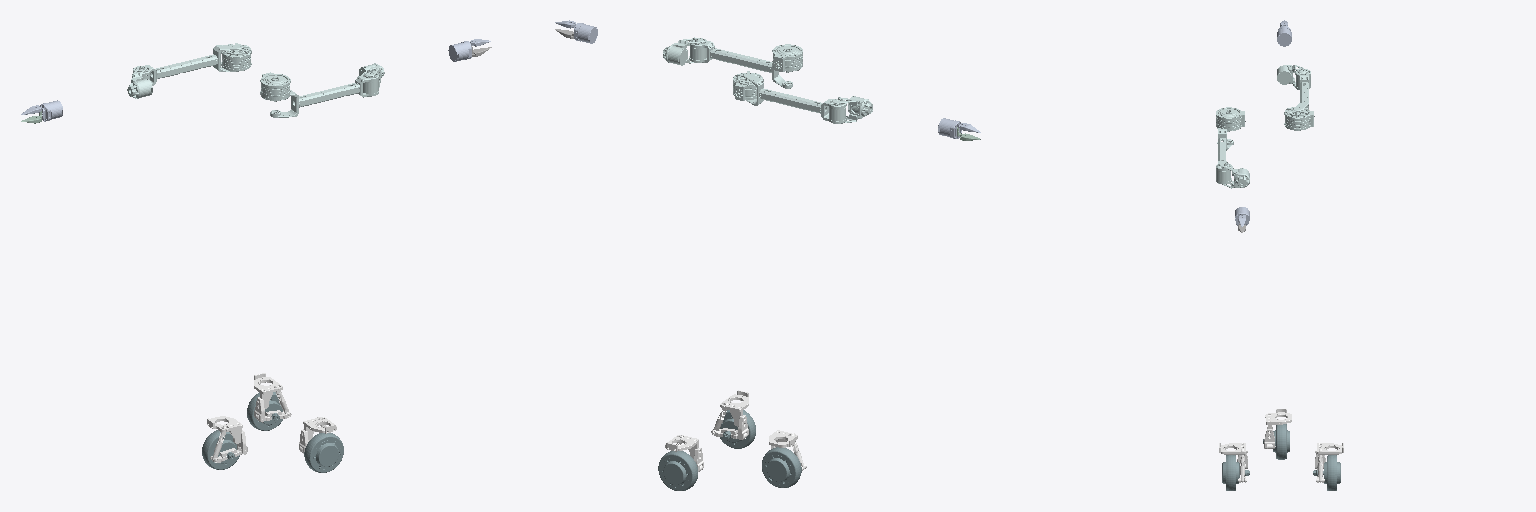
--- Render facts (derived) ---
Views: 3 orthographic renders of the robot side by side, from view 1: azimuth 30°, elevation 25°; view 2: azimuth 150°, elevation 25°; view 3: azimuth 270°, elevation 25°.
Robot: r1urdfv20 — 24 links, 23 joints (15 revolute, 3 continuous, 4 prismatic, 1 fixed); root link base_link; default pose: every joint at zero.
Links seen in each view (by area): view 1: right_arm_2_Link, front_right_wheel_Link, left_arm_2_Link, front_left_turn_Link, rear_turn_Link, rear_wheel_Link, right_arm_1_Link, front_left_wheel_Link, left_arm_1_Link, front_right_turn_Link, left_arm_3_Link; view 2: left_arm_2_Link, right_arm_2_Link, rear_wheel_Link, front_left_wheel_Link, front_right_turn_Link, right_arm_1_Link, front_right_wheel_Link, front_left_turn_Link, left_arm_3_Link, right_arm_3_Link, left_arm_1_Link, rear_turn_Link; view 3: right_arm_2_Link, right_arm_1_Link, left_arm_1_Link, front_right_wheel_Link, front_left_wheel_Link, rear_turn_Link.
Boxes of the visible links, x1=… form: right_arm_2_Link: x1=270, y1=72, x2=378, y2=117; front_right_wheel_Link: x1=304, y1=433, x2=343, y2=472; left_arm_2_Link: x1=133, y1=45, x2=241, y2=85; front_left_turn_Link: x1=254, y1=373, x2=291, y2=422; rear_turn_Link: x1=207, y1=416, x2=247, y2=462; rear_wheel_Link: x1=202, y1=430, x2=239, y2=469; right_arm_1_Link: x1=260, y1=72, x2=290, y2=101; front_left_wheel_Link: x1=247, y1=392, x2=282, y2=430; left_arm_1_Link: x1=221, y1=43, x2=251, y2=71; front_right_turn_Link: x1=299, y1=417, x2=336, y2=453; left_arm_3_Link: x1=127, y1=66, x2=152, y2=98; left_arm_2_Link: x1=743, y1=73, x2=846, y2=123; right_arm_2_Link: x1=689, y1=38, x2=792, y2=88; rear_wheel_Link: x1=762, y1=447, x2=801, y2=487; front_left_wheel_Link: x1=658, y1=451, x2=697, y2=490; front_right_turn_Link: x1=711, y1=390, x2=748, y2=439; right_arm_1_Link: x1=772, y1=44, x2=802, y2=72; front_right_wheel_Link: x1=720, y1=410, x2=755, y2=448; front_left_turn_Link: x1=665, y1=435, x2=703, y2=471; left_arm_3_Link: x1=832, y1=96, x2=872, y2=123; right_arm_3_Link: x1=663, y1=37, x2=703, y2=65; left_arm_1_Link: x1=733, y1=71, x2=763, y2=100; rear_turn_Link: x1=769, y1=430, x2=806, y2=470; right_arm_2_Link: x1=1216, y1=128, x2=1233, y2=183; right_arm_1_Link: x1=1216, y1=107, x2=1245, y2=131; left_arm_1_Link: x1=1284, y1=107, x2=1314, y2=130; front_right_wheel_Link: x1=1222, y1=455, x2=1249, y2=490; front_left_wheel_Link: x1=1313, y1=455, x2=1340, y2=490; rear_turn_Link: x1=1264, y1=409, x2=1291, y2=448.
Bounding box of the posed robot: 1.7 × 0.4835 × 1.49 m (x, y, z).
Meshes: 24 distinct files referenced, 18 mesh visuals loaded (18 binary STL); not drawn: 6 (reference not matched to a file when rendering).

The robot description file, URDF, robot "r1urdfv20":
<?xml version="1.0" encoding="utf-8"?>
<!-- This URDF was automatically created by SolidWorks to URDF Exporter! Originally created by Stephen Brawner ([email redacted]) 
     Commit Version: 1.6.0-4-g7f85cfe  Build Version: 1.6.7995.38578
     For more information, please see http://wiki.ros.org/sw_urdf_exporter -->
<robot
  name="r1urdfv20">
  <link
    name="base_link">
    <inertial>
      <origin
        xyz="-0.026382 -0.0012728 0.5966"
        rpy="0 0 0" />
      <mass
        value="15.491" />
      <inertia
        ixx="0.13933"
        ixy="-3.1833E-06"
        ixz="-7.9787E-05"
        iyy="0.090681"
        iyz="-1.7144E-05"
        izz="0.074444" />
    </inertial>
    <visual>
      <origin
        xyz="0 0 0"
        rpy="0 0 0" />
      <geometry>
        <mesh
          filename="package://r1urdfv20/meshes/base_link.STL" />
      </geometry>
      <material
        name="">
        <color
          rgba="0.6 0.6 0.6 1" />
      </material>
    </visual>
    <collision>
      <origin
        xyz="0 0 0"
        rpy="0 0 0" />
      <geometry>
        <mesh
          filename="package://r1urdfv20/meshes/base_link.STL" />
      </geometry>
    </collision>
  </link>
  <link
    name="right_arm_1_Link">
    <inertial>
      <origin
        xyz="0.000482947498702258 0.0665129799867958 -4.39097614289632E-05"
        rpy="0 0 0" />
      <mass
        value="0.398803866995265" />
      <inertia
        ixx="0.000471963938986112"
        ixy="2.06893994686651E-07"
        ixz="-1.14905994861973E-08"
        iyy="0.000292322022062978"
        iyz="3.84681040793564E-09"
        izz="0.00029753175071843" />
    </inertial>
    <visual>
      <origin
        xyz="0 0 0"
        rpy="0 0 0" />
      <geometry>
        <mesh
          filename="package://r1urdfv20/meshes/right_arm_1_Link.STL" />
      </geometry>
      <material
        name="">
        <color
          rgba="0.862745098039216 0.933333333333333 0.929411764705882 1" />
      </material>
    </visual>
    <collision>
      <origin
        xyz="0 0 0"
        rpy="0 0 0" />
      <geometry>
        <mesh
          filename="package://r1urdfv20/meshes/right_arm_1_Link.STL" />
      </geometry>
    </collision>
  </link>
  <joint
    name="right_arm_1"
    type="revolute">
    <origin
      xyz="-0.055 -0.1293 1.375"
      rpy="3.1416 1.5708 0" />
    <parent
      link="base_link" />
    <child
      link="right_arm_1_Link" />
    <axis
      xyz="0 1 0" />
    <limit
      lower="-2.9671"
      upper="2.9671"
      effort="40"
      velocity="20.944" />
  </joint>
  <link
    name="right_arm_2_Link">
    <inertial>
      <origin
        xyz="0.242000100178419 0.0329432147671944 -0.0210911855769896"
        rpy="0 0 0" />
      <mass
        value="0.304298191433429" />
      <inertia
        ixx="8.21099672038204E-05"
        ixy="-8.01356169800638E-07"
        ixz="7.54332283804966E-06"
        iyy="0.000460903257636709"
        iyz="3.46449438210603E-07"
        izz="0.000436774574409272" />
    </inertial>
    <visual>
      <origin
        xyz="0 0 0"
        rpy="0 0 0" />
      <geometry>
        <mesh
          filename="package://r1urdfv20/meshes/right_arm_2_Link.STL" />
      </geometry>
      <material
        name="">
        <color
          rgba="0.862745098039216 0.933333333333333 0.929411764705882 1" />
      </material>
    </visual>
    <collision>
      <origin
        xyz="0 0 0"
        rpy="0 0 0" />
      <geometry>
        <mesh
          filename="package://r1urdfv20/meshes/right_arm_2_Link.STL" />
      </geometry>
    </collision>
  </link>
  <joint
    name="right_arm_2"
    type="revolute">
    <origin
      xyz="0.0316 0.0682 0"
      rpy="1.5708 1.5708 0" />
    <parent
      link="right_arm_1_Link" />
    <child
      link="right_arm_2_Link" />
    <axis
      xyz="0 -1 0" />
    <limit
      lower="0"
      upper="3.1416"
      effort="40"
      velocity="20.944" />
  </joint>
  <link
    name="right_arm_3_Link">
    <inertial>
      <origin
        xyz="0.0562887318450117 0.0287031276620311 0.0460109885164526"
        rpy="0 0 0" />
      <mass
        value="0.17673381793659" />
      <inertia
        ixx="7.11121862208899E-05"
        ixy="7.75554307231406E-08"
        ixz="-1.3313861413664E-05"
        iyy="7.31597322912867E-05"
        iyz="1.56136589502447E-07"
        izz="7.82758650078634E-05" />
    </inertial>
    <visual>
      <origin
        xyz="0 0 0"
        rpy="0 0 0" />
      <geometry>
        <mesh
          filename="package://r1urdfv20/meshes/right_arm_3_Link.STL" />
      </geometry>
      <material
        name="">
        <color
          rgba="0.862745098039216 0.933333333333333 0.929411764705882 1" />
      </material>
    </visual>
    <collision>
      <origin
        xyz="0 0 0"
        rpy="0 0 0" />
      <geometry>
        <mesh
          filename="package://r1urdfv20/meshes/right_arm_3_Link.STL" />
      </geometry>
    </collision>
  </link>
  <joint
    name="right_arm_3"
    type="revolute">
    <origin
      xyz="0.3493 0.0602 -0.02"
      rpy="0 -1.4992 3.1416" />
    <parent
      link="right_arm_2_Link" />
    <child
      link="right_arm_3_Link" />
    <axis
      xyz="0 1 0" />
    <limit
      lower="-3.2289"
      upper="0"
      effort="27"
      velocity="7.5398" />
  </joint>
  <link
    name="right_arm_4_Link">
    <inertial>
      <origin
        xyz="-0.000115885764968349 -0.000953414199622499 0.162502253261696"
        rpy="0 0 0" />
      <mass
        value="0.173902313999747" />
      <inertia
        ixx="9.66641920947544E-05"
        ixy="-1.14315876051539E-08"
        ixz="2.2086976682201E-08"
        iyy="0.000107424784872974"
        iyz="8.18988678838899E-08"
        izz="4.3081633581935E-05" />
    </inertial>
    <visual>
      <origin
        xyz="0 0 0"
        rpy="0 0 0" />
      <geometry>
        <mesh
          filename="package://r1urdfv20/meshes/right_arm_4_Link.STL" />
      </geometry>
      <material
        name="">
        <color
          rgba="0.807843137254902 0.843137254901961 0.905882352941176 1" />
      </material>
    </visual>
    <collision>
      <origin
        xyz="0 0 0"
        rpy="0 0 0" />
      <geometry>
        <mesh
          filename="package://r1urdfv20/meshes/right_arm_4_Link.STL" />
      </geometry>
    </collision>
  </link>
  <joint
    name="right_arm_4"
    type="revolute">
    <origin
      xyz="0.064765 0.0286 0.075477"
      rpy="-0.071618 0 1.5708" />
    <parent
      link="right_arm_3_Link" />
    <child
      link="right_arm_4_Link" />
    <axis
      xyz="0 0 -1" />
    <limit
      lower="-2.9671"
      upper="2.9671"
      effort="7"
      velocity="25.133" />
  </joint>
  <link
    name="right_arm_5_Link">
    <inertial>
      <origin
        xyz="0.0531831929626253 7.0332425980979E-05 -0.0158335004823851"
        rpy="0 0 0" />
      <mass
        value="0.125757652730193" />
      <inertia
        ixx="4.74089143783051E-05"
        ixy="-1.14185805509986E-08"
        ixz="-1.35496915402268E-07"
        iyy="3.8455449922191E-05"
        iyz="2.20905766824506E-08"
        izz="4.01871788113155E-05" />
    </inertial>
    <visual>
      <origin
        xyz="0 0 0"
        rpy="0 0 0" />
      <geometry>
        <mesh
          filename="package://r1urdfv20/meshes/right_arm_5_Link.STL" />
      </geometry>
      <material
        name="">
        <color
          rgba="0.807843137254902 0.843137254901961 0.905882352941176 1" />
      </material>
    </visual>
    <collision>
      <origin
        xyz="0 0 0"
        rpy="0 0 0" />
      <geometry>
        <mesh
          filename="package://r1urdfv20/meshes/right_arm_5_Link.STL" />
      </geometry>
    </collision>
  </link>
  <joint
    name="right_arm_5"
    type="revolute">
    <origin
      xyz="0 -0.019 0.203"
      rpy="1.5708 -1.5708 0" />
    <parent
      link="right_arm_4_Link" />
    <child
      link="right_arm_5_Link" />
    <axis
      xyz="0 0 -1" />
    <limit
      lower="-1.5708"
      upper="1.5708"
      effort="7"
      velocity="25.133" />
  </joint>
  <link
    name="right_arm_6_Link">
    <inertial>
      <origin
        xyz="9.00598932584984E-05 -0.0158749347061359 1.57785811366329E-05"
        rpy="0 0 0" />
      <mass
        value="0.122512592931009" />
      <inertia
        ixx="3.7405042389197E-05"
        ixy="-1.14177312628966E-08"
        ixz="-2.20718306069342E-08"
        iyy="5.19904063396718E-05"
        iyz="-2.26275509948969E-12"
        izz="3.96317905767279E-05" />
    </inertial>
    <visual>
      <origin
        xyz="0 0 0"
        rpy="0 0 0" />
      <geometry>
        <mesh
          filename="package://r1urdfv20/meshes/right_arm_6_Link.STL" />
      </geometry>
      <material
        name="">
        <color
          rgba="0.807843137254902 0.843137254901961 0.905882352941176 1" />
      </material>
    </visual>
    <collision>
      <origin
        xyz="0 0 0"
        rpy="0 0 0" />
      <geometry>
        <mesh
          filename="package://r1urdfv20/meshes/right_arm_6_Link.STL" />
      </geometry>
    </collision>
  </link>
  <joint
    name="right_arm_6"
    type="revolute">
    <origin
      xyz="0.127 0 -0.019"
      rpy="0 0 -1.5708" />
    <parent
      link="right_arm_5_Link" />
    <child
      link="right_arm_6_Link" />
    <axis
      xyz="0 -1 0" />
    <limit
      lower="-3.1416"
      upper="3.1416"
      effort="7"
      velocity="25.133" />
  </joint>
  <link
    name="right_gripper_1_Link">
    <inertial>
      <origin
        xyz="0.0150997682776914 0.0466628666880268 0.00130021742187353"
        rpy="0 0 0" />
      <mass
        value="0.020839650594778" />
      <inertia
        ixx="5.35925669042557E-06"
        ixy="3.2105081397067E-07"
        ixz="8.41324549886875E-08"
        iyy="1.64858970587413E-06"
        iyz="8.43889751948525E-08"
        izz="4.71009872198047E-06" />
    </inertial>
    <visual>
      <origin
        xyz="0 0 0"
        rpy="0 0 0" />
      <geometry>
        <mesh
          filename="package://r1urdfv20/meshes/right_gripper_1_Link.STL" />
      </geometry>
      <material
        name="">
        <color
          rgba="0.807843137254902 0.843137254901961 0.905882352941176 1" />
      </material>
    </visual>
    <collision>
      <origin
        xyz="0 0 0"
        rpy="0 0 0" />
      <geometry>
        <mesh
          filename="package://r1urdfv20/meshes/right_gripper_1_Link.STL" />
      </geometry>
    </collision>
  </link>
  <joint
    name="right_gripper_1"
    type="prismatic">
    <origin
      xyz="0 0 0"
      rpy="0 0 0" />
    <parent
      link="right_arm_6_Link" />
    <child
      link="right_gripper_1_Link" />
    <axis
      xyz="-1 0 0" />
    <limit
      lower="-0.01139"
      upper="0.01861"
      effort="200"
      velocity="0.25" />
  </joint>
  <link
    name="right_gripper_2_Link">
    <inertial>
      <origin
        xyz="-0.0150997631929657 0.0466628666880293 -0.00130022598880983"
        rpy="0 0 0" />
      <mass
        value="0.0208396505947778" />
      <inertia
        ixx="5.35925668999015E-06"
        ixy="-3.21051770401059E-07"
        ixz="8.41324537238298E-08"
        iyy="1.64858970598469E-06"
        iyz="-8.4389628535297E-08"
        izz="4.71009872271777E-06" />
    </inertial>
    <visual>
      <origin
        xyz="0 0 0"
        rpy="0 0 0" />
      <geometry>
        <mesh
          filename="package://r1urdfv20/meshes/right_gripper_2_Link.STL" />
      </geometry>
      <material
        name="">
        <color
          rgba="0.752941176470588 0.752941176470588 0.752941176470588 1" />
      </material>
    </visual>
    <collision>
      <origin
        xyz="0 0 0"
        rpy="0 0 0" />
      <geometry>
        <mesh
          filename="package://r1urdfv20/meshes/right_gripper_2_Link.STL" />
      </geometry>
    </collision>
  </link>
  <joint
    name="right_gripper_2"
    type="prismatic">
    <origin
      xyz="0 0 0"
      rpy="0 0 0" />
    <parent
      link="right_arm_6_Link" />
    <child
      link="right_gripper_2_Link" />
    <axis
      xyz="-1 0 0" />
    <limit
      lower="-0.01139"
      upper="0.01861"
      effort="200"
      velocity="0.25" />
  </joint>
  <link
    name="left_arm_1_Link">
    <inertial>
      <origin
        xyz="0.00048294749870248 -0.0665129799867958 4.39097614289286E-05"
        rpy="0 0 0" />
      <mass
        value="0.398803866995265" />
      <inertia
        ixx="0.000471963938986112"
        ixy="-2.06893994686736E-07"
        ixz="1.14905994862357E-08"
        iyy="0.000292322022062978"
        iyz="3.8468104080065E-09"
        izz="0.00029753175071843" />
    </inertial>
    <visual>
      <origin
        xyz="0 0 0"
        rpy="0 0 0" />
      <geometry>
        <mesh
          filename="package://r1urdfv20/meshes/left_arm_1_Link.STL" />
      </geometry>
      <material
        name="">
        <color
          rgba="0.862745098039216 0.933333333333333 0.929411764705882 1" />
      </material>
    </visual>
    <collision>
      <origin
        xyz="0 0 0"
        rpy="0 0 0" />
      <geometry>
        <mesh
          filename="package://r1urdfv20/meshes/left_arm_1_Link.STL" />
      </geometry>
    </collision>
  </link>
  <joint
    name="left_arm_1"
    type="revolute">
    <origin
      xyz="-0.055 0.1293 1.375"
      rpy="0 -1.5708 0" />
    <parent
      link="base_link" />
    <child
      link="left_arm_1_Link" />
    <axis
      xyz="0 -1 0" />
    <limit
      lower="-2.9671"
      upper="2.9671"
      effort="40"
      velocity="20.944" />
  </joint>
  <link
    name="left_arm_2_Link">
    <inertial>
      <origin
        xyz="0.242 0.032943 -0.021091"
        rpy="0 0 0" />
      <mass
        value="0.3043" />
      <inertia
        ixx="8.211E-05"
        ixy="-8.0136E-07"
        ixz="7.5433E-06"
        iyy="0.0004609"
        iyz="3.4645E-07"
        izz="0.00043677" />
    </inertial>
    <visual>
      <origin
        xyz="0 0 0"
        rpy="0 0 0" />
      <geometry>
        <mesh
          filename="package://r1urdfv20/meshes/left_arm_2_Link.STL" />
      </geometry>
      <material
        name="">
        <color
          rgba="0.86275 0.93333 0.92941 1" />
      </material>
    </visual>
    <collision>
      <origin
        xyz="0 0 0"
        rpy="0 0 0" />
      <geometry>
        <mesh
          filename="package://r1urdfv20/meshes/left_arm_2_Link.STL" />
      </geometry>
    </collision>
  </link>
  <joint
    name="left_arm_2"
    type="revolute">
    <origin
      xyz="0.0316000000000001 -0.0682 0"
      rpy="1.5707963267949 -1.5707963267949 0" />
    <parent
      link="left_arm_1_Link" />
    <child
      link="left_arm_2_Link" />
    <axis
      xyz="0 -1 0" />
    <limit
      lower="0"
      upper="3.1416"
      effort="40"
      velocity="20.944" />
  </joint>
  <link
    name="left_arm_3_Link">
    <inertial>
      <origin
        xyz="0.0562887288413909 0.0287031283243724 0.0460109773669689"
        rpy="0 0 0" />
      <mass
        value="0.176733757984667" />
      <inertia
        ixx="7.11121626998125E-05"
        ixy="7.75495141697147E-08"
        ixz="-1.33138486154967E-05"
        iyy="7.31596982899093E-05"
        iyz="1.56134222469076E-07"
        izz="7.8275847355051E-05" />
    </inertial>
    <visual>
      <origin
        xyz="0 0 0"
        rpy="0 0 0" />
      <geometry>
        <mesh
          filename="package://r1urdfv20/meshes/left_arm_3_Link.STL" />
      </geometry>
      <material
        name="">
        <color
          rgba="0.862745098039216 0.933333333333333 0.929411764705882 1" />
      </material>
    </visual>
    <collision>
      <origin
        xyz="0 0 0"
        rpy="0 0 0" />
      <geometry>
        <mesh
          filename="package://r1urdfv20/meshes/left_arm_3_Link.STL" />
      </geometry>
    </collision>
  </link>
  <joint
    name="left_arm_3"
    type="revolute">
    <origin
      xyz="0.3493 0.0602 -0.02"
      rpy="0 -1.4992 3.1416" />
    <parent
      link="left_arm_2_Link" />
    <child
      link="left_arm_3_Link" />
    <axis
      xyz="0 1 0" />
    <limit
      lower="-3.2289"
      upper="0"
      effort="27"
      velocity="7.5398" />
  </joint>
  <link
    name="left_arm_4_Link">
    <inertial>
      <origin
        xyz="0.000115885764967683 0.000953414199622388 0.172502253261698"
        rpy="0 0 0" />
      <mass
        value="0.173902313999744" />
      <inertia
        ixx="9.66641920947531E-05"
        ixy="-1.143158760517E-08"
        ixz="-2.20869766822127E-08"
        iyy="0.000107424784872973"
        iyz="-8.18988678840049E-08"
        izz="4.30816335819349E-05" />
    </inertial>
    <visual>
      <origin
        xyz="0 0 0"
        rpy="0 0 0" />
      <geometry>
        <mesh
          filename="package://r1urdfv20/meshes/left_arm_4_Link.STL" />
      </geometry>
      <material
        name="">
        <color
          rgba="0.807843137254902 0.843137254901961 0.905882352941176 1" />
      </material>
    </visual>
    <collision>
      <origin
        xyz="0 0 0"
        rpy="0 0 0" />
      <geometry>
        <mesh
          filename="package://r1urdfv20/meshes/left_arm_4_Link.STL" />
      </geometry>
    </collision>
  </link>
  <joint
    name="left_arm_4"
    type="revolute">
    <origin
      xyz="0.0654807437107414 0.0285999999999991 0.0655022254905157"
      rpy="0.0716177566691392 0 -1.5707963267949" />
    <parent
      link="left_arm_3_Link" />
    <child
      link="left_arm_4_Link" />
    <axis
      xyz="0 0 -1" />
    <limit
      lower="-2.9671"
      upper="2.9671"
      effort="7"
      velocity="25.133" />
  </joint>
  <link
    name="left_arm_5_Link">
    <inertial>
      <origin
        xyz="0.0531831929568978 7.0332423133479E-05 -0.0158335004772369"
        rpy="0 0 0" />
      <mass
        value="0.12575765276199" />
      <inertia
        ixx="4.74089143828551E-05"
        ixy="-1.14185723820991E-08"
        ixz="-1.35496912625004E-07"
        iyy="3.84554499380275E-05"
        iyz="2.20905751576645E-08"
        izz="4.01871788307906E-05" />
    </inertial>
    <visual>
      <origin
        xyz="0 0 0"
        rpy="0 0 0" />
      <geometry>
        <mesh
          filename="package://r1urdfv20/meshes/left_arm_5_Link.STL" />
      </geometry>
      <material
        name="">
        <color
          rgba="0.807843137254902 0.843137254901961 0.905882352941176 1" />
      </material>
    </visual>
    <collision>
      <origin
        xyz="0 0 0"
        rpy="0 0 0" />
      <geometry>
        <mesh
          filename="package://r1urdfv20/meshes/left_arm_5_Link.STL" />
      </geometry>
    </collision>
  </link>
  <joint
    name="left_arm_5"
    type="revolute">
    <origin
      xyz="0 0.019 0.213"
      rpy="1.5708 -1.5708 3.1416" />
    <parent
      link="left_arm_4_Link" />
    <child
      link="left_arm_5_Link" />
    <axis
      xyz="0 0 1" />
    <limit
      lower="-1.5708"
      upper="1.5708"
      effort="7"
      velocity="25.133" />
  </joint>
  <link
    name="left_arm_6_Link">
    <inertial>
      <origin
        xyz="9.00598932582763E-05 0.0158749347061357 -1.57785811364941E-05"
        rpy="0 0 0" />
      <mass
        value="0.122512592931009" />
      <inertia
        ixx="3.74050423891972E-05"
        ixy="1.14177312629101E-08"
        ixz="2.20718306069366E-08"
        iyy="5.19904063396721E-05"
        iyz="-2.26275510740762E-12"
        izz="3.9631790576728E-05" />
    </inertial>
    <visual>
      <origin
        xyz="0 0 0"
        rpy="0 0 0" />
      <geometry>
        <mesh
          filename="package://r1urdfv20/meshes/left_arm_6_Link.STL" />
      </geometry>
      <material
        name="">
        <color
          rgba="0.807843137254902 0.843137254901961 0.905882352941176 1" />
      </material>
    </visual>
    <collision>
      <origin
        xyz="0 0 0"
        rpy="0 0 0" />
      <geometry>
        <mesh
          filename="package://r1urdfv20/meshes/left_arm_6_Link.STL" />
      </geometry>
    </collision>
  </link>
  <joint
    name="left_arm_6"
    type="revolute">
    <origin
      xyz="0.127 0 -0.019"
      rpy="-3.1416 0 -1.5708" />
    <parent
      link="left_arm_5_Link" />
    <child
      link="left_arm_6_Link" />
    <axis
      xyz="0 1 0" />
    <limit
      lower="-1.5708"
      upper="1.5708"
      effort="7"
      velocity="25.133" />
  </joint>
  <link
    name="left_gripper_1_Link">
    <inertial>
      <origin
        xyz="0.0150997682776919 -0.0466628666880271 -0.00130021742187339"
        rpy="0 0 0" />
      <mass
        value="0.0208396505947783" />
      <inertia
        ixx="5.3592566904257E-06"
        ixy="-3.21050813970676E-07"
        ixz="-8.41324549886873E-08"
        iyy="1.64858970587415E-06"
        iyz="8.43889751949089E-08"
        izz="4.71009872198059E-06" />
    </inertial>
    <visual>
      <origin
        xyz="0 0 0"
        rpy="0 0 0" />
      <geometry>
        <mesh
          filename="package://r1urdfv20/meshes/left_gripper_1_Link.STL" />
      </geometry>
      <material
        name="">
        <color
          rgba="0.807843137254902 0.843137254901961 0.905882352941176 1" />
      </material>
    </visual>
    <collision>
      <origin
        xyz="0 0 0"
        rpy="0 0 0" />
      <geometry>
        <mesh
          filename="package://r1urdfv20/meshes/left_gripper_1_Link.STL" />
      </geometry>
    </collision>
  </link>
  <joint
    name="left_gripper_1"
    type="prismatic">
    <origin
      xyz="0 0 0"
      rpy="0 0 0" />
    <parent
      link="left_arm_6_Link" />
    <child
      link="left_gripper_1_Link" />
    <axis
      xyz="-1 0 0" />
    <limit
      lower="-0.01139"
      upper="0.01861"
      effort="200"
      velocity="0.25" />
  </joint>
  <link
    name="left_gripper_2_Link">
    <inertial>
      <origin
        xyz="-0.0150997631929655 -0.0466628666880293 0.00130022598880963"
        rpy="0 0 0" />
      <mass
        value="0.0208396505947778" />
      <inertia
        ixx="5.3592566899901E-06"
        ixy="3.21051770401052E-07"
        ixz="-8.41324537238321E-08"
        iyy="1.64858970598469E-06"
        iyz="-8.43896285353483E-08"
        izz="4.71009872271771E-06" />
    </inertial>
    <visual>
      <origin
        xyz="0 0 0"
        rpy="0 0 0" />
      <geometry>
        <mesh
          filename="package://r1urdfv20/meshes/left_gripper_2_Link.STL" />
      </geometry>
      <material
        name="">
        <color
          rgba="0.717647058823529 0.807843137254902 0.764705882352941 1" />
      </material>
    </visual>
    <collision>
      <origin
        xyz="0 0 0"
        rpy="0 0 0" />
      <geometry>
        <mesh
          filename="package://r1urdfv20/meshes/left_gripper_2_Link.STL" />
      </geometry>
    </collision>
  </link>
  <joint
    name="left_gripper_2"
    type="prismatic">
    <origin
      xyz="0 0 0"
      rpy="0 0 0" />
    <parent
      link="left_arm_6_Link" />
    <child
      link="left_gripper_2_Link" />
    <axis
      xyz="-1 0 0" />
    <limit
      lower="-0.01139"
      upper="0.01861"
      effort="200"
      velocity="0.25" />
  </joint>
  <link
    name="front_right_turn_Link">
    <inertial>
      <origin
        xyz="-0.012413636735135 0.0326994616911081 -0.0464166842047596"
        rpy="0 0 0" />
      <mass
        value="0.166745489430199" />
      <inertia
        ixx="7.31594186809433E-05"
        ixy="3.78194658444154E-06"
        ixz="3.79169601335577E-06"
        iyy="9.36430482470364E-05"
        iyz="-4.35217163122222E-07"
        izz="0.000114020265357597" />
    </inertial>
    <visual>
      <origin
        xyz="0 0 0"
        rpy="0 0 0" />
      <geometry>
        <mesh
          filename="package://r1urdfv20/meshes/front_right_turn_Link.STL" />
      </geometry>
      <material
        name="">
        <color
          rgba="1 1 1 1" />
      </material>
    </visual>
    <collision>
      <origin
        xyz="0 0 0"
        rpy="0 0 0" />
      <geometry>
        <mesh
          filename="package://r1urdfv20/meshes/front_right_turn_Link.STL" />
      </geometry>
    </collision>
  </link>
  <joint
    name="front_right_turn"
    type="revolute">
    <origin
      xyz="0.134 -0.19 0.093"
      rpy="0 0 0" />
    <parent
      link="base_link" />
    <child
      link="front_right_turn_Link" />
    <axis
      xyz="0 0 -1" />
    <limit
      lower="-1.5708"
      upper="1.5708"
      effort="30"
      velocity="3.1416" />
  </joint>
  <link
    name="front_right_wheel_Link">
    <inertial>
      <origin
        xyz="-0.0126461681347569 4.10299022396421E-08 1.27331540117348E-07"
        rpy="0 0 0" />
      <mass
        value="0.501279389187157" />
      <inertia
        ixx="0.00112603278383341"
        ixy="-7.07501374928763E-12"
        ixz="-5.02403287669185E-10"
        iyy="0.000608659879130589"
        iyz="4.38528064884448E-10"
        izz="0.000608638107985703" />
    </inertial>
    <visual>
      <origin
        xyz="0 0 0"
        rpy="0 0 0" />
      <geometry>
        <mesh
          filename="package://r1urdfv20/meshes/front_right_wheel_Link.STL" />
      </geometry>
      <material
        name="">
        <color
          rgba="0.592156862745098 0.666666666666667 0.682352941176471 1" />
      </material>
    </visual>
    <collision>
      <origin
        xyz="0 0 0"
        rpy="0 0 0" />
      <geometry>
        <mesh
          filename="package://r1urdfv20/meshes/front_right_wheel_Link.STL" />
      </geometry>
    </collision>
  </link>
  <joint
    name="front_right_wheel"
    type="continuous">
    <origin
      xyz="0.00093535 0.01445 -0.098784"
      rpy="1.6618 0 1.5708" />
    <parent
      link="front_right_turn_Link" />
    <child
      link="front_right_wheel_Link" />
    <axis
      xyz="-1 0 0" />
    <limit
      lower="-31416"
      upper="31416"
      effort="31416"
      velocity="1" />
  </joint>
  <link
    name="rear_turn_Link">
    <inertial>
      <origin
        xyz="0.0105018417259877 -0.0333911478007156 -0.0457481164808251"
        rpy="0 0 0" />
      <mass
        value="0.169293728333091" />
      <inertia
        ixx="7.58871032958393E-05"
        ixy="5.05302357347852E-06"
        ixz="-3.78027553364282E-06"
        iyy="9.67392043251605E-05"
        iyz="4.7273967277236E-07"
        izz="0.000119801486565964" />
    </inertial>
    <visual>
      <origin
        xyz="0 0 0"
        rpy="0 0 0" />
      <geometry>
        <mesh
          filename="package://r1urdfv20/meshes/rear_turn_Link.STL" />
      </geometry>
      <material
        name="">
        <color
          rgba="1 1 1 1" />
      </material>
    </visual>
    <collision>
      <origin
        xyz="0 0 0"
        rpy="0 0 0" />
      <geometry>
        <mesh
          filename="package://r1urdfv20/meshes/rear_turn_Link.STL" />
      </geometry>
    </collision>
  </link>
  <joint
    name="rear_turn"
    type="revolute">
    <origin
      xyz="-0.145 0 0.093"
      rpy="0 0 0" />
    <parent
      link="base_link" />
    <child
      link="rear_turn_Link" />
    <axis
      xyz="0 0 -1" />
    <limit
      lower="-1.5708"
      upper="1.5708"
      effort="30"
      velocity="3.1416" />
  </joint>
  <link
    name="rear_wheel_Link">
    <inertial>
      <origin
        xyz="-0.0126461681348182 4.10299060577685E-08 1.27331550414667E-07"
        rpy="0 0 0" />
      <mass
        value="0.501279389185714" />
      <inertia
        ixx="0.00112603278383339"
        ixy="-7.07503229297317E-12"
        ixz="-5.02403339164335E-10"
        iyy="0.000608659879130426"
        iyz="4.38528072473863E-10"
        izz="0.000608638107985549" />
    </inertial>
    <visual>
      <origin
        xyz="0 0 0"
        rpy="0 0 0" />
      <geometry>
        <mesh
          filename="package://r1urdfv20/meshes/rear_wheel_Link.STL" />
      </geometry>
      <material
        name="">
        <color
          rgba="0.592156862745098 0.666666666666667 0.682352941176471 1" />
      </material>
    </visual>
    <collision>
      <origin
        xyz="0 0 0"
        rpy="0 0 0" />
      <geometry>
        <mesh
          filename="package://r1urdfv20/meshes/rear_wheel_Link.STL" />
      </geometry>
    </collision>
  </link>
  <joint
    name="rear_wheel"
    type="continuous">
    <origin
      xyz="-0.000935345149793987 -0.01445 -0.098783988279823"
      rpy="1.66178856889433 0 -1.5707963267949" />
    <parent
      link="rear_turn_Link" />
    <child
      link="rear_wheel_Link" />
    <axis
      xyz="-1 0 0" />
    <limit
      lower="-31416"
      upper="31416"
      effort="31416"
      velocity="1" />
  </joint>
  <link
    name="front_left_turn_Link">
    <inertial>
      <origin
        xyz="-0.01238997113958 -0.0327476270254852 -0.0463771568019292"
        rpy="0 0 0" />
      <mass
        value="0.166893938282297" />
      <inertia
        ixx="7.32170917567451E-05"
        ixy="-3.80975120431348E-06"
        ixz="3.79147221898454E-06"
        iyy="9.36478097646021E-05"
        iyz="-4.42780702021874E-07"
        izz="0.000114081615622234" />
    </inertial>
    <visual>
      <origin
        xyz="0 0 0"
        rpy="0 0 0" />
      <geometry>
        <mesh
          filename="package://r1urdfv20/meshes/front_left_turn_Link.STL" />
      </geometry>
      <material
        name="">
        <color
          rgba="1 1 1 1" />
      </material>
    </visual>
    <collision>
      <origin
        xyz="0 0 0"
        rpy="0 0 0" />
      <geometry>
        <mesh
          filename="package://r1urdfv20/meshes/front_left_turn_Link.STL" />
      </geometry>
    </collision>
  </link>
  <joint
    name="front_left_turn"
    type="revolute">
    <origin
      xyz="0.134 0.19 0.093"
      rpy="0 0 0" />
    <parent
      link="base_link" />
    <child
      link="front_left_turn_Link" />
    <axis
      xyz="0 0 -1" />
    <limit
      lower="-1.5708"
      upper="1.5708"
      effort="30"
      velocity="3.1416" />
  </joint>
  <link
    name="front_left_wheel_Link">
    <inertial>
      <origin
        xyz="-0.0126461681335348 4.10300547478565E-08 1.27331313132251E-07"
        rpy="0 0 0" />
      <mass
        value="0.501279389216152" />
      <inertia
        ixx="0.00112603329167931"
        ixy="-7.07575552584084E-12"
        ixz="-5.02402181458734E-10"
        iyy="0.000608664366974582"
        iyz="1.9225740137074E-09"
        izz="0.00060863421006751" />
    </inertial>
    <visual>
      <origin
        xyz="0 0 0"
        rpy="0 0 0" />
      <geometry>
        <mesh
          filename="package://r1urdfv20/meshes/front_left_wheel_Link.STL" />
      </geometry>
      <material
        name="">
        <color
          rgba="0.592156862745098 0.666666666666667 0.682352941176471 1" />
      </material>
    </visual>
    <collision>
      <origin
        xyz="0 0 0"
        rpy="0 0 0" />
      <geometry>
        <mesh
          filename="package://r1urdfv20/meshes/front_left_wheel_Link.STL" />
      </geometry>
    </collision>
  </link>
  <joint
    name="front_left_wheel"
    type="continuous">
    <origin
      xyz="0.000935345149794042 -0.01445 -0.098783988279823"
      rpy="1.46053973194118 0 -1.57079632679489" />
    <parent
      link="front_left_turn_Link" />
    <child
      link="front_left_wheel_Link" />
    <axis
      xyz="-1 0 0" />
    <limit
      lower="-31416"
      upper="31416"
      effort="31416"
      velocity="1" />
  </joint>
  <link
    name="realsensecamera_link">
    <inertial>
      <origin
        xyz="0 0 0"
        rpy="0 0 0" />
      <mass
        value="0" />
      <inertia
        ixx="0"
        ixy="0"
        ixz="0"
        iyy="0"
        iyz="0"
        izz="0" />
    </inertial>
    <visual>
      <origin
        xyz="0 0 0"
        rpy="0 0 0" />
      <geometry>
        <mesh
          filename="package://r1urdfv20/meshes/realsensecamera_link.STL" />
      </geometry>
      <material
        name="">
        <color
          rgba="1 1 1 1" />
      </material>
    </visual>
    <collision>
      <origin
        xyz="0 0 0"
        rpy="0 0 0" />
      <geometry>
        <mesh
          filename="package://r1urdfv20/meshes/realsensecamera_link.STL" />
      </geometry>
    </collision>
  </link>
  <joint
    name="realsensecamera_joint"
    type="fixed">
    <origin
      xyz="-0.053794 0 1.4848"
      rpy="2.0071 0 1.5708" />
    <parent
      link="base_link" />
    <child
      link="realsensecamera_link" />
    <axis
      xyz="0 0 0" />
  </joint>
</robot>
